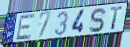3: (54, 10, 69, 38)
4: (70, 8, 87, 36)
7: (36, 10, 53, 41)
E: (15, 13, 37, 41)
S: (88, 7, 106, 34)
T: (110, 5, 124, 31)
